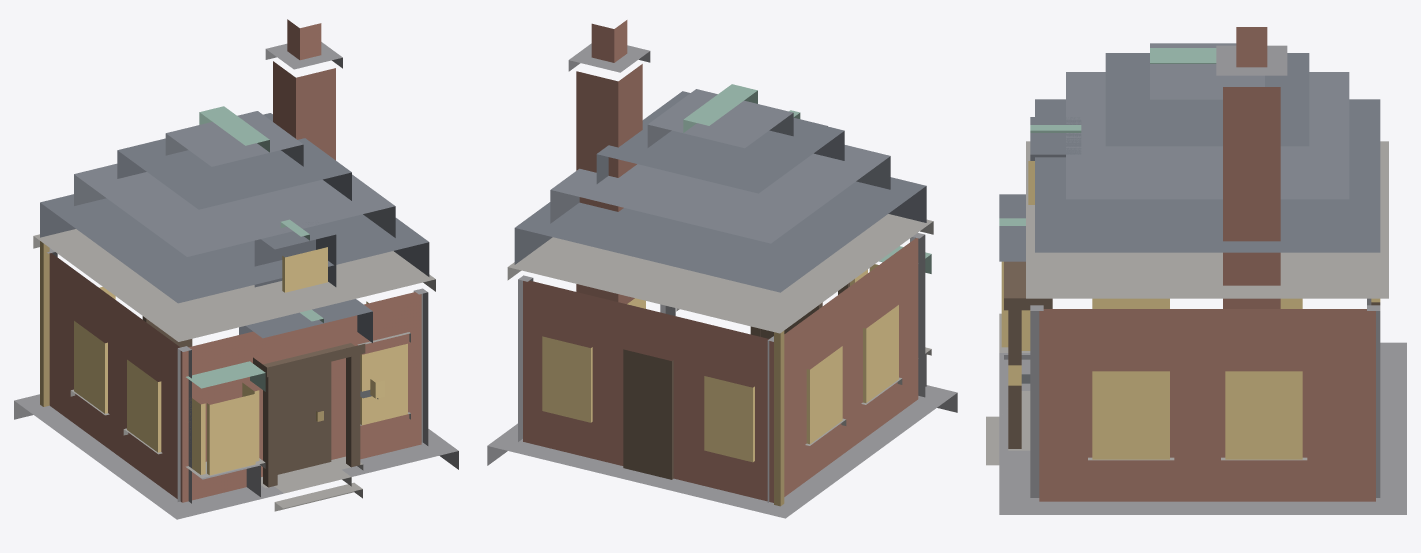
Rendered from house_standalone_2x2.glb.
3 renders of one model, left to right at view 1: azimuth 30°, elevation 25°; view 2: azimuth 150°, elevation 25°; view 3: azimuth 270°, elevation 25°, orthographic. The views are drawn at different scales.
Parts seen in each view (by area): view 1: Brick_Terracotta_Lower, Roof_SlateDark, Roof_SlateMid, Stone_Curb, Emissive_GasWindow, Stone_Plinth, Timber_DarkOak, Brick_Chimney, Metal_VerdigrisCopper, Metal_BrassPipe; view 2: Brick_Terracotta_Lower, Roof_SlateDark, Roof_SlateMid, Stone_Curb, Emissive_GasWindow, Stone_Plinth, Timber_DarkOak, Brick_Chimney, Metal_BrassPipe, Metal_VerdigrisCopper; view 3: Brick_Terracotta_Lower, Roof_SlateDark, Roof_SlateMid, Stone_Curb, Stone_Plinth, Emissive_GasWindow, Brick_Chimney, Timber_DarkOak, Metal_VerdigrisCopper.
Part boxes in pixels (x1,y1,x2,y2): Brick_Terracotta_Lower: (49,19,421,502); Roof_SlateDark: (40,113,429,342); Roof_SlateMid: (74,111,395,256); Stone_Curb: (33,229,435,511); Emissive_GasWindow: (74,247,407,475); Stone_Plinth: (14,42,458,519); Timber_DarkOak: (142,316,365,487); Brick_Chimney: (273,61,335,160); Metal_VerdigrisCopper: (186,106,323,391); Metal_BrassPipe: (40,241,323,421); Brick_Terracotta_Lower: (523,20,918,502); Roof_SlateDark: (514,91,926,292); Roof_SlateMid: (550,89,890,243); Stone_Curb: (507,214,933,445); Emissive_GasWindow: (542,264,898,462); Stone_Plinth: (487,43,957,518); Timber_DarkOak: (623,282,849,479); Brick_Chimney: (576,64,642,304); Metal_BrassPipe: (774,331,784,506); Metal_VerdigrisCopper: (683,84,931,273); Brick_Terracotta_Lower: (1039,27,1375,501); Roof_SlateDark: (999,53,1380,261); Roof_SlateMid: (1066,43,1349,199); Stone_Curb: (986,141,1388,465); Stone_Plinth: (999,45,1406,514); Emissive_GasWindow: (1001,161,1380,459); Brick_Chimney: (1223,87,1280,308); Timber_DarkOak: (1004,261,1380,448); Metal_VerdigrisCopper: (999,48,1216,225).
Bounding box in the file's own units: 1.84 × 2.42 × 1.9.
